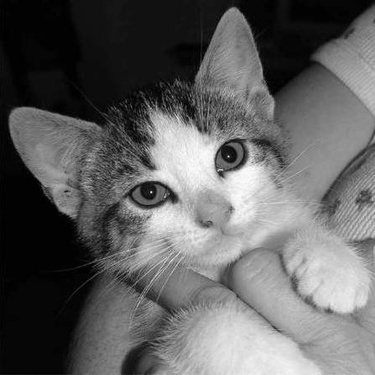cat: (10, 6, 368, 373)
